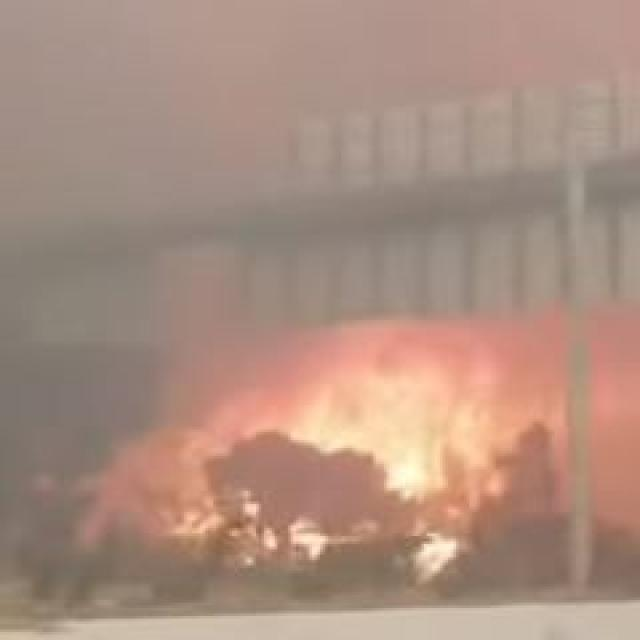Fire: (272, 362, 501, 527)
Smoke: (9, 0, 640, 357)
